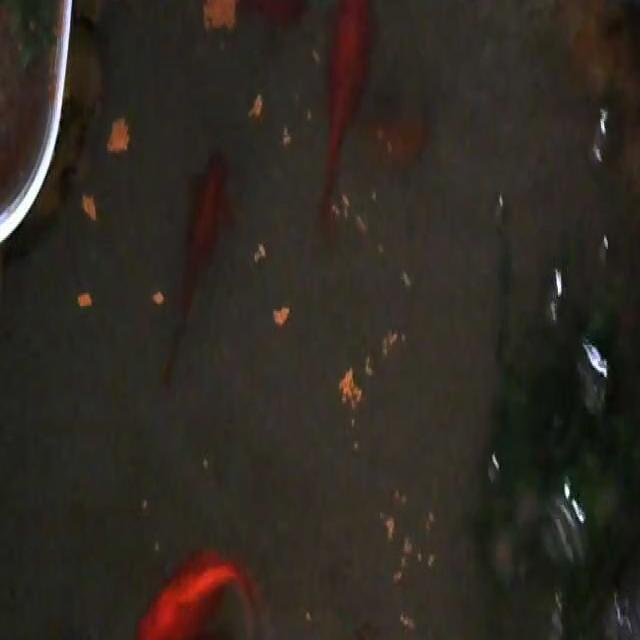fish: (162, 147, 236, 390), (320, 0, 373, 222), (138, 546, 263, 640), (365, 107, 430, 171), (188, 0, 305, 30)
